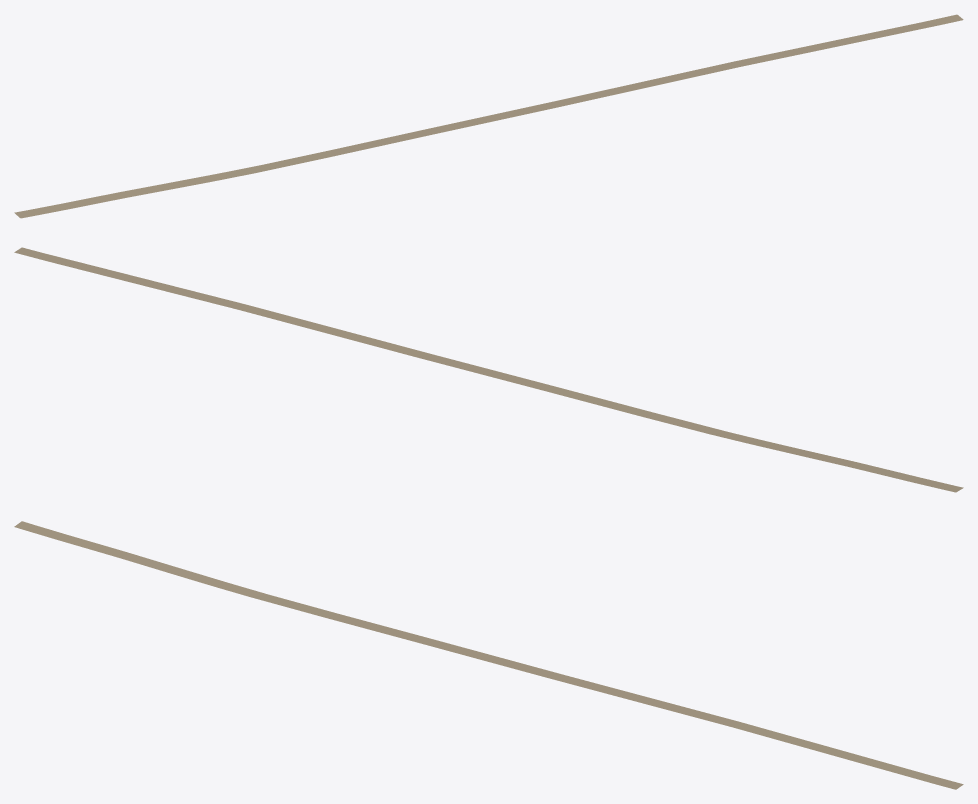
The model's file is farm_26_28_track.glb.
3 views of the same model, one above another, from view 1: azimuth 30°, elevation 25°; view 2: azimuth 150°, elevation 25°; view 3: azimuth 330°, elevation 25° (orthographic). The views are drawn at different scales.
Visible parts, largest first — view 1: geometry_0; view 2: geometry_0; view 3: geometry_0.
Boxes of the visible parts, x1,y1,x2,y2 form: geometry_0: (14, 14, 963, 218); geometry_0: (14, 247, 963, 492); geometry_0: (14, 521, 963, 789).
Size of the model in its own units: 246 by 2.87 by 13.13.
